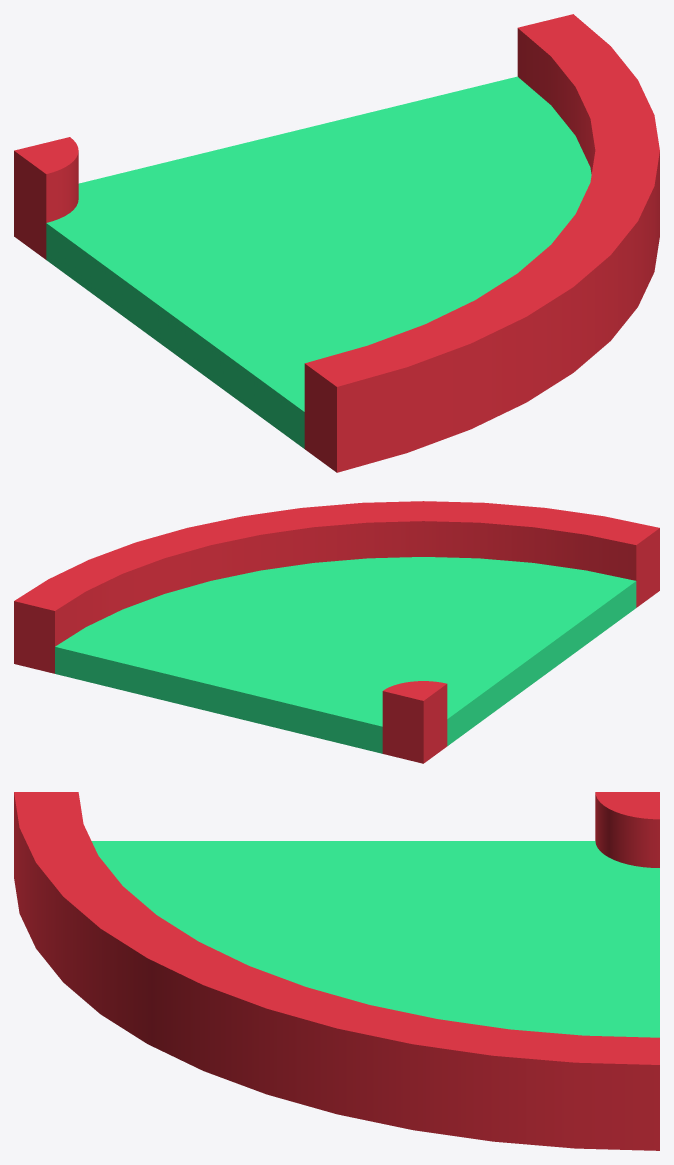
The model's file is roundCornerA.fbx.
3 views of the same model, one above another, from view 1: azimuth 30°, elevation 25°; view 2: azimuth 150°, elevation 25°; view 3: azimuth 270°, elevation 25° (orthographic). The views are drawn at different scales.
Visible parts, largest first — view 1: roundCornerA; view 2: roundCornerA; view 3: roundCornerA.
Part boxes in pixels (x1=…): roundCornerA: x1=14, y1=14, x2=659, y2=472; roundCornerA: x1=14, y1=501, x2=659, y2=763; roundCornerA: x1=14, y1=792, x2=659, y2=1150.
Size of the model in its own units: 10 by 1.47 by 10.
